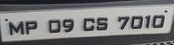character: (8, 21, 24, 36), (151, 14, 165, 29), (82, 17, 95, 31), (25, 20, 37, 35), (48, 19, 60, 33), (62, 18, 74, 32), (117, 16, 129, 30), (130, 15, 142, 29), (96, 16, 107, 31), (144, 14, 151, 30)
